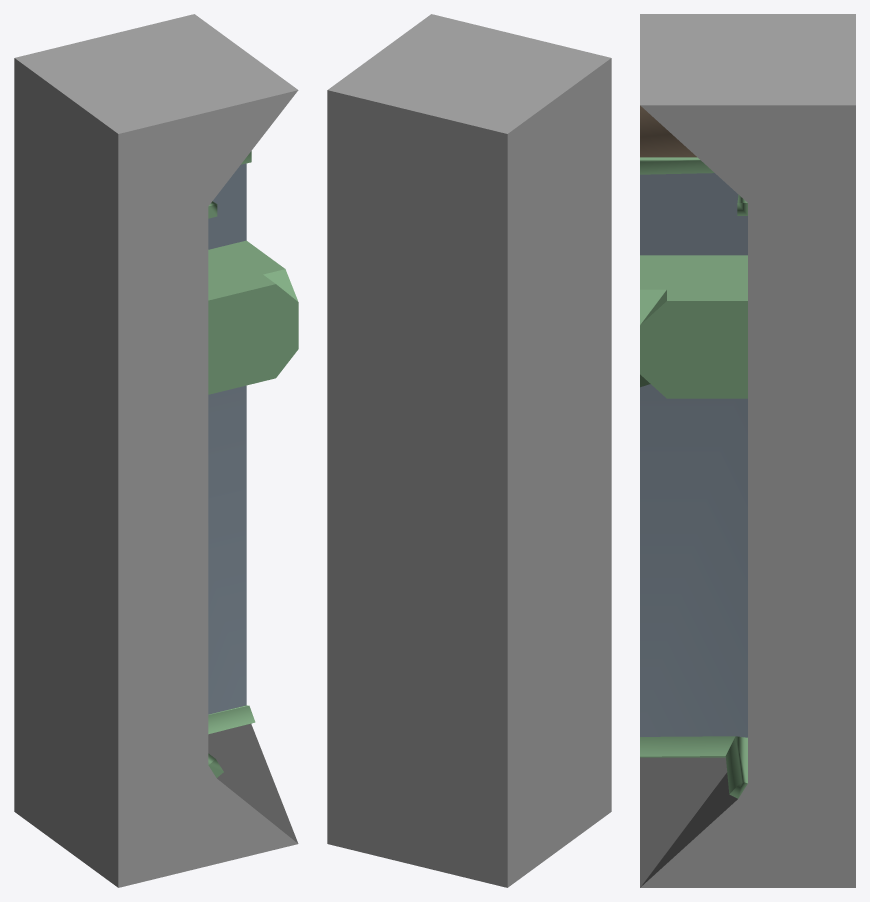
File: Wall_Inside_Corner.fbx
3 renders of one model, left to right at view 1: azimuth 30°, elevation 25°; view 2: azimuth 150°, elevation 25°; view 3: azimuth 270°, elevation 25°, orthographic. The views are drawn at different scales.
Parts seen in each view (by area): view 1: Corner; view 2: Corner; view 3: Corner.
Part boxes in pixels (x1,y1,x2,y2): Corner: (14,14,298,887); Corner: (327,14,611,887); Corner: (640,14,855,887).
Size of the model in its own units: 100 by 400 by 100.
